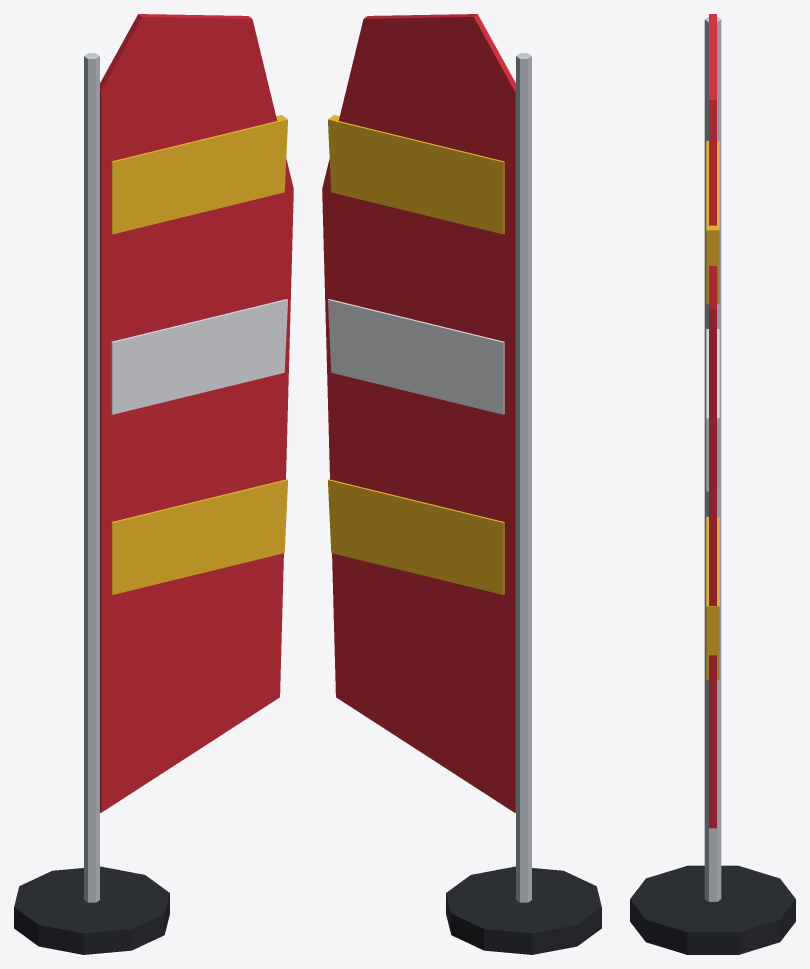
File: FeatherFlag.fbx
3 views of the same model, side by side, from view 1: azimuth 30°, elevation 25°; view 2: azimuth 150°, elevation 25°; view 3: azimuth 270°, elevation 25° (orthographic). The views are drawn at different scales.
Visible parts, largest first — view 1: FeatherFlag; view 2: FeatherFlag; view 3: FeatherFlag.
Boxes of the visible parts, x1=… form: FeatherFlag: x1=14, y1=14, x2=293, y2=954; FeatherFlag: x1=322, y1=14, x2=601, y2=954; FeatherFlag: x1=630, y1=14, x2=795, y2=954.
Bounding box in the file's own units: 3.85 × 12.4 × 2.
1 material, 1 textured.
